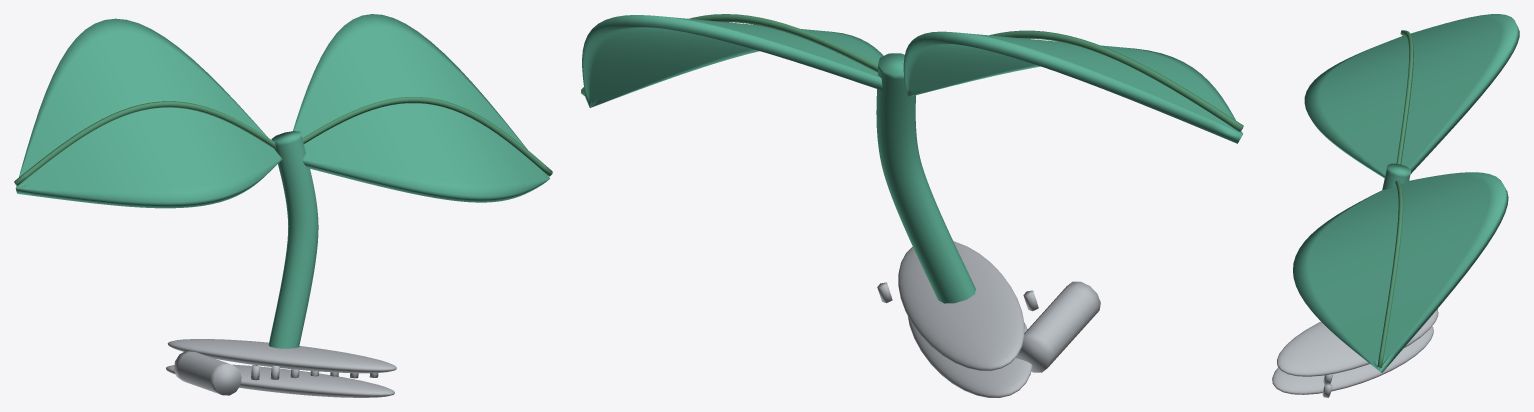
File: Masculine-middle-part-headband252-sprout.glb
3 renders of one model, left to right at view 1: azimuth 30°, elevation 25°; view 2: azimuth 150°, elevation 25°; view 3: azimuth 270°, elevation 25°, orthographic. The views are drawn at different scales.
Visible parts, largest first — view 1: 226 extra / Accessory / mint226, 226 extra / Sprout / clip silver235, 226 extra / Sprout / leaf vein235; view 2: 226 extra / Accessory / mint226, 226 extra / Sprout / clip silver235, 226 extra / Sprout / leaf vein235; view 3: 226 extra / Accessory / mint226, 226 extra / Sprout / clip silver235, 226 extra / Sprout / leaf vein235.
Part boxes in pixels (<box>): 226 extra / Accessory / mint226: <box>15,14,549,348</box>; 226 extra / Sprout / clip silver235: <box>166,339,396,397</box>; 226 extra / Sprout / leaf vein235: <box>14,97,552,186</box>; 226 extra / Accessory / mint226: <box>582,15,1242,303</box>; 226 extra / Sprout / clip silver235: <box>877,241,1100,397</box>; 226 extra / Sprout / leaf vein235: <box>581,14,1243,131</box>; 226 extra / Accessory / mint226: <box>1293,14,1519,372</box>; 226 extra / Sprout / clip silver235: <box>1272,309,1438,397</box>; 226 extra / Sprout / leaf vein235: <box>1377,30,1413,367</box>.
Bounding box in the file's own units: 0.2663 × 0.1602 × 0.1181.
